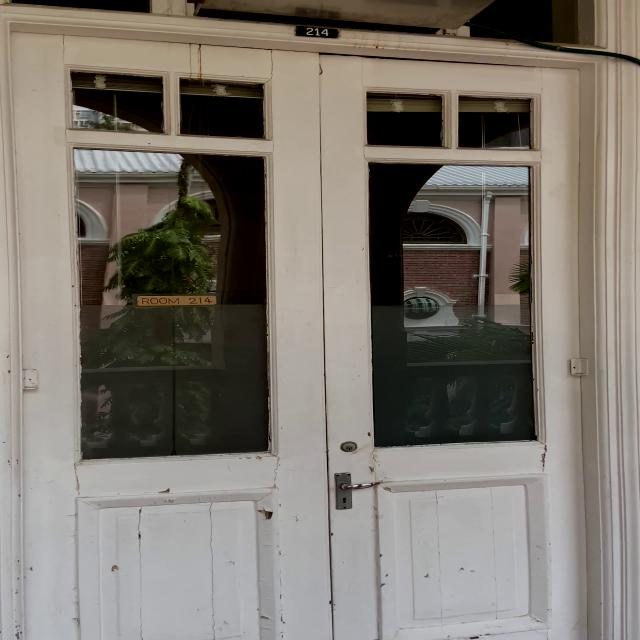room214: (289, 22, 347, 40)
room214Window: (125, 290, 222, 312)
